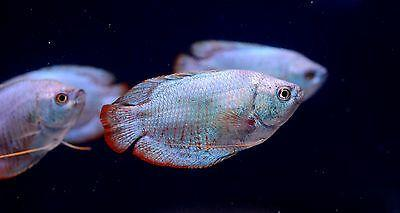fish: (99, 68, 304, 169), (0, 63, 128, 147), (172, 39, 328, 103), (0, 77, 91, 180)
